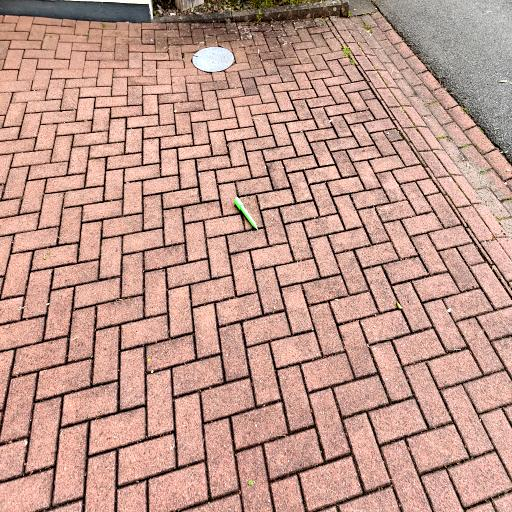Probe-Detection: (234, 197, 258, 230)
